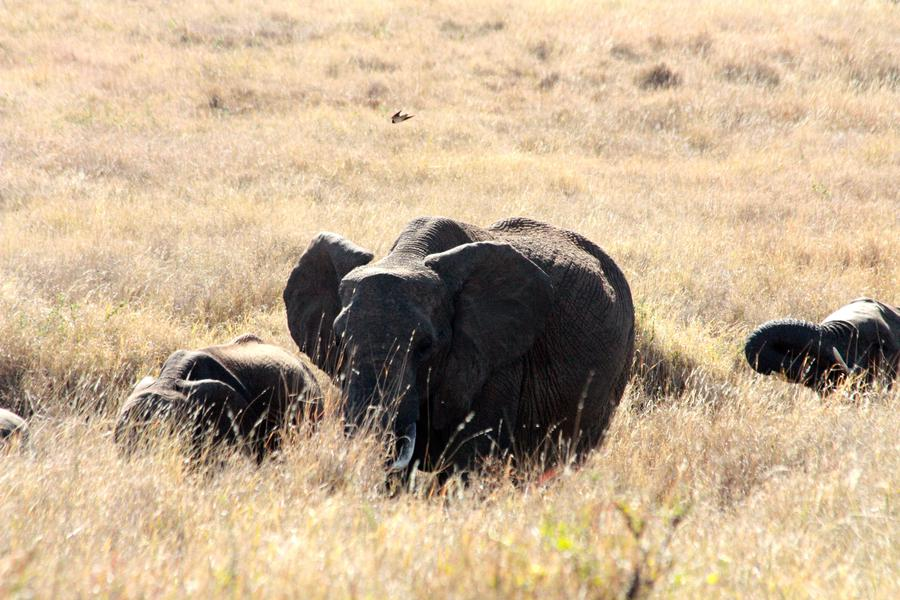elephant: (317, 247, 469, 429)
